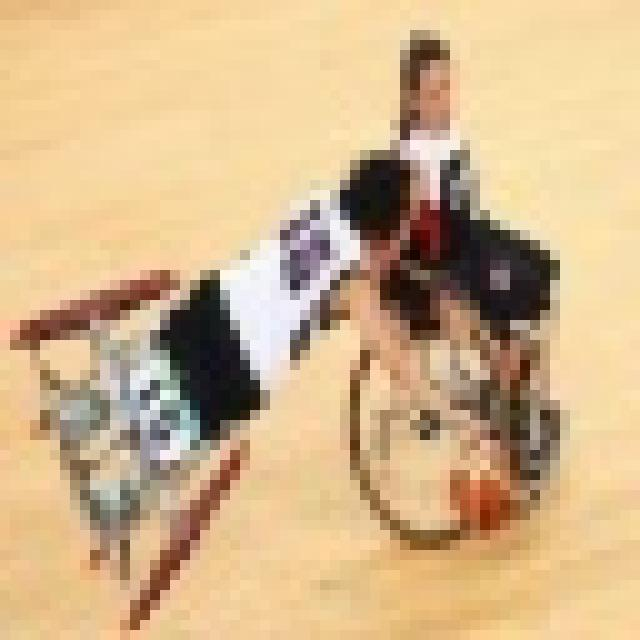wheelchairs: (11, 257, 265, 623), (346, 238, 570, 541)
